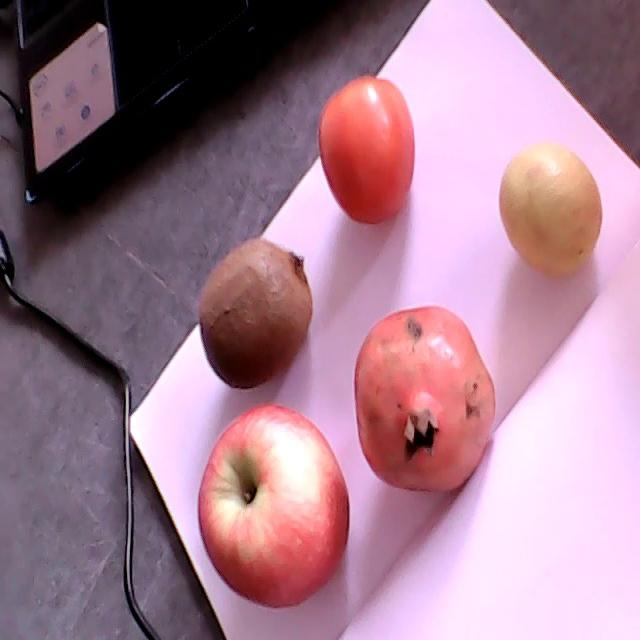apple: (198, 403, 349, 609)
kiwi: (198, 237, 312, 389)
lemon: (499, 146, 601, 276)
pomegranate: (354, 307, 496, 491)
tomato: (319, 76, 415, 225)
